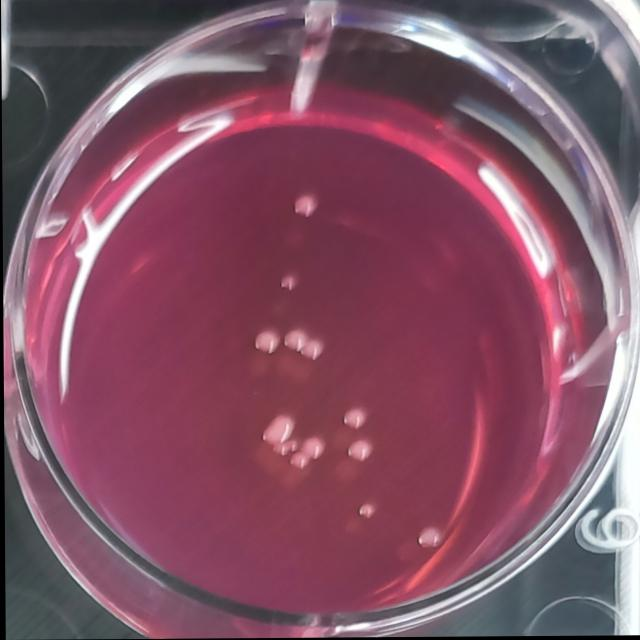Bacillus: (285, 437, 326, 475), (257, 412, 296, 449), (412, 521, 444, 554), (249, 327, 280, 358), (289, 190, 322, 218), (337, 406, 370, 433), (343, 439, 373, 466), (297, 338, 325, 366), (280, 328, 310, 353), (349, 502, 375, 524), (275, 274, 299, 294)
